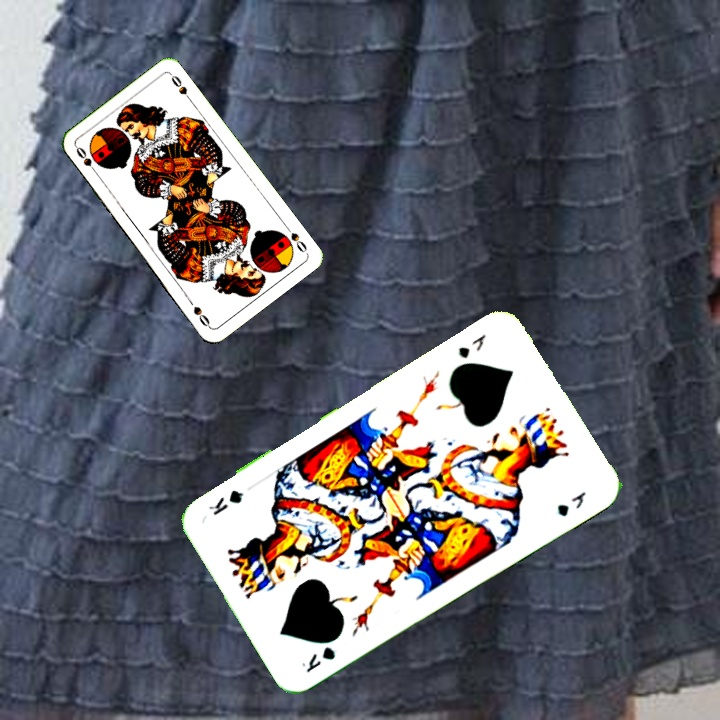GK: (302, 642, 339, 676), (454, 329, 489, 361)
SO: (72, 143, 101, 178), (281, 221, 310, 256)
